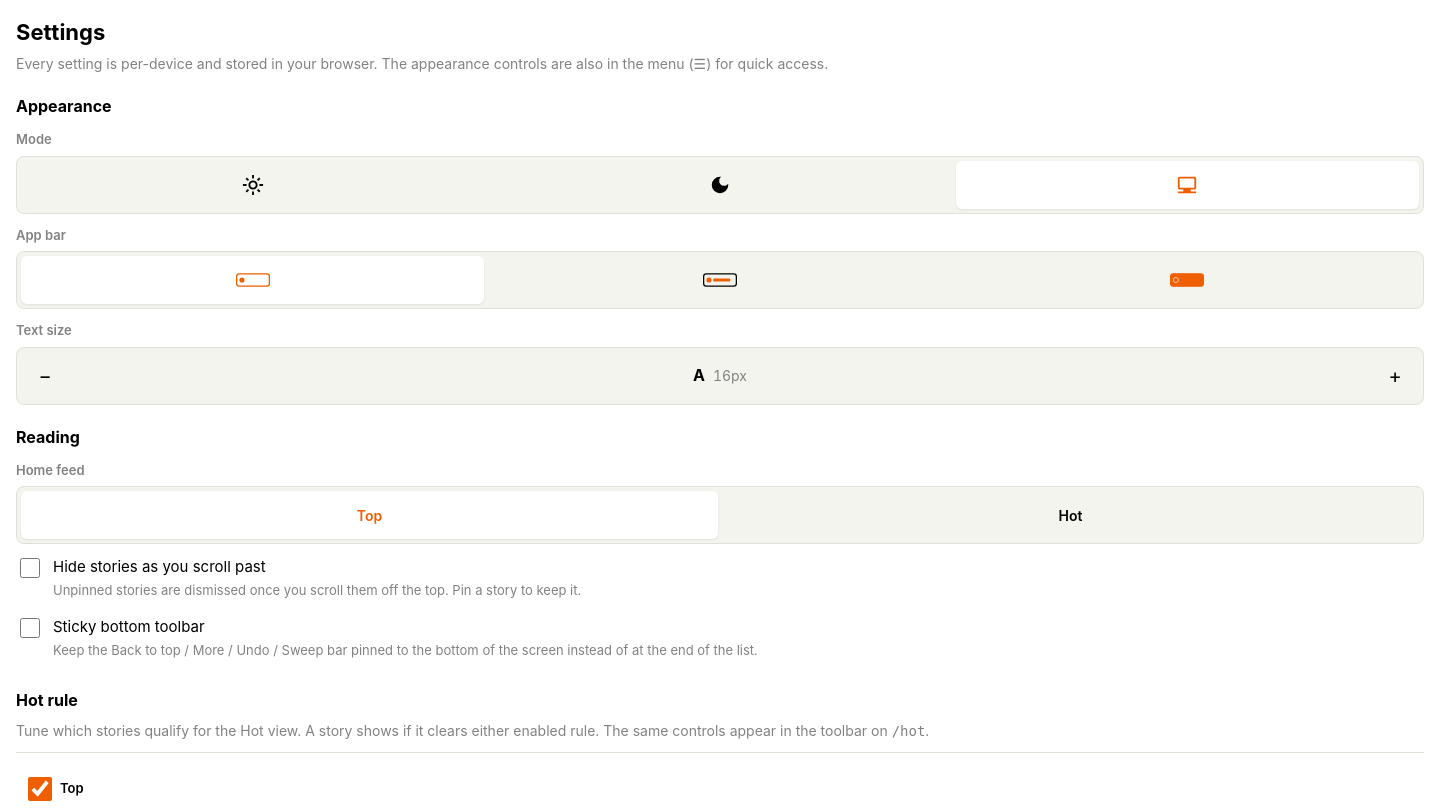
Test case: <SettingsPage> › mirrors the Home feed picker (Top default) and persists changes
Click the radio button with aria-label "Home shows Hot": (1070, 515) [722,491,1419,539]
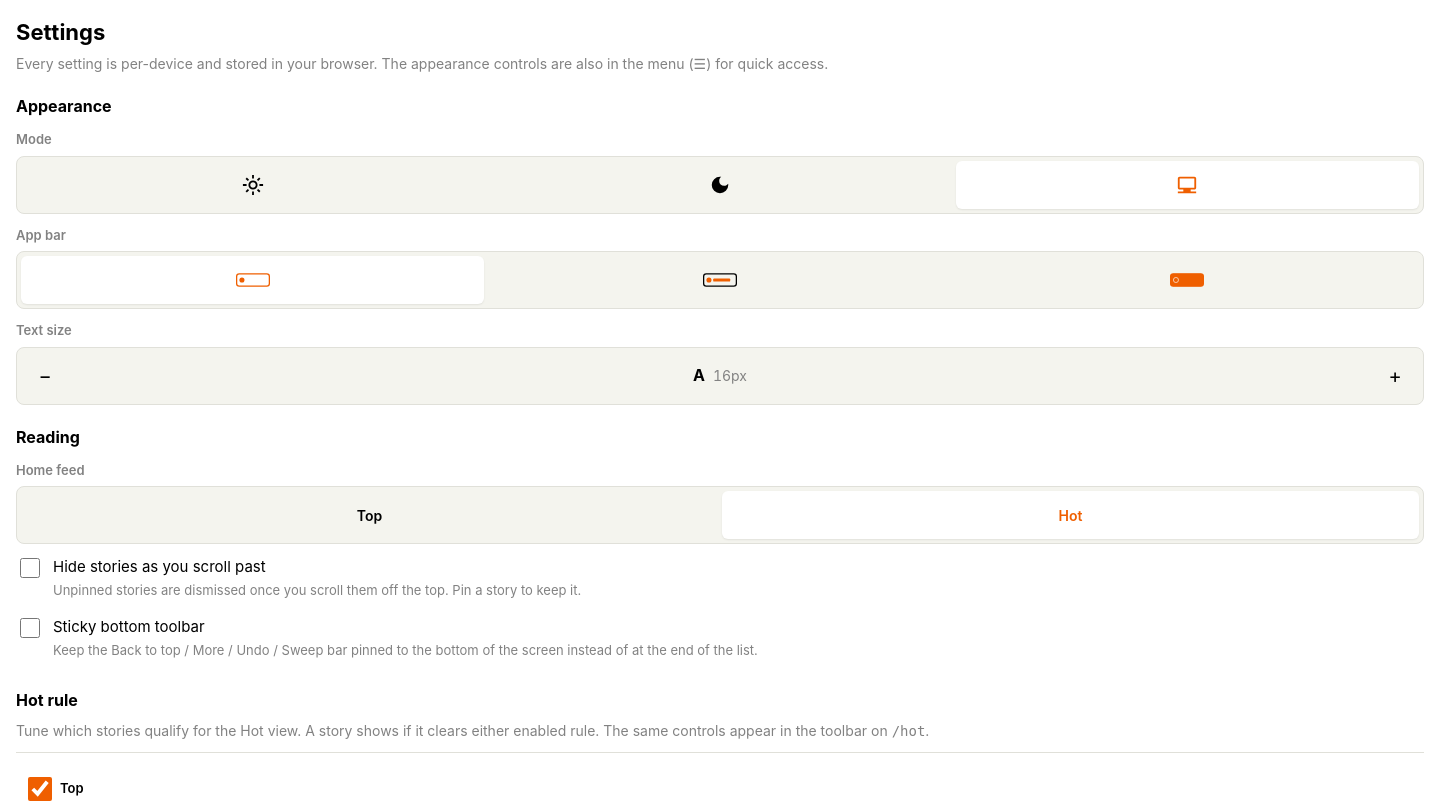
expect the radio button with aria-label "Home shows Hot" is checked: met, box [722,491,1419,539]
